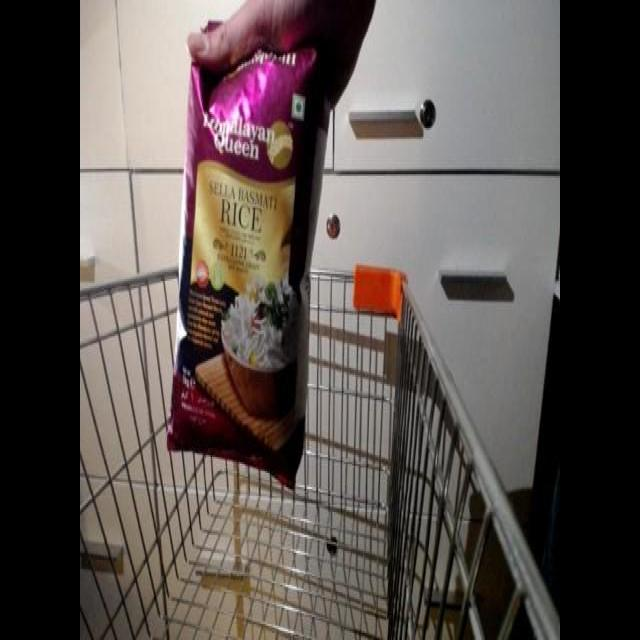Basmati Rice: (160, 20, 329, 497)
